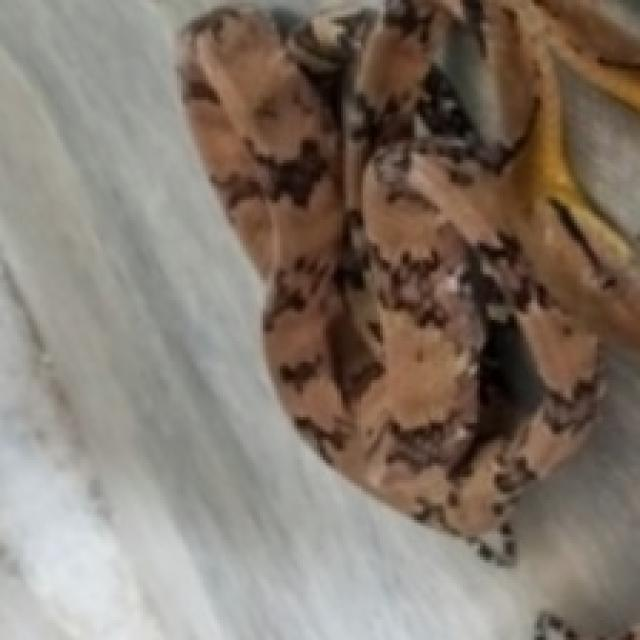dog-toothed cat snake: (180, 0, 637, 560)
